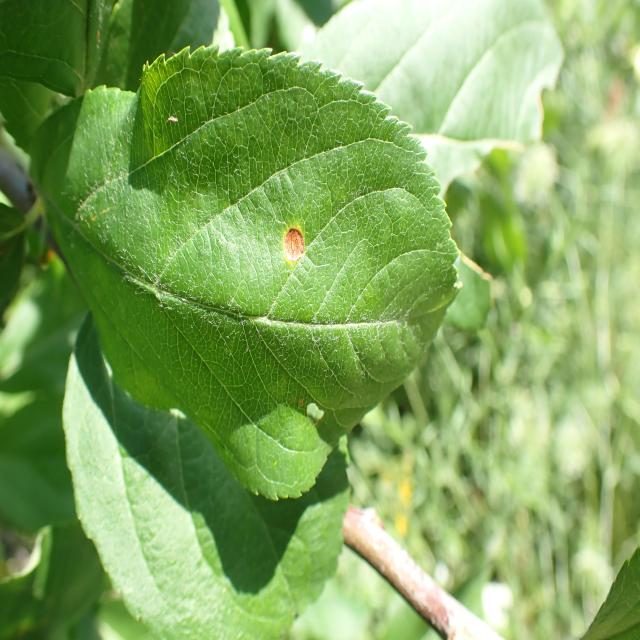Black Rot: (280, 219, 314, 270)
